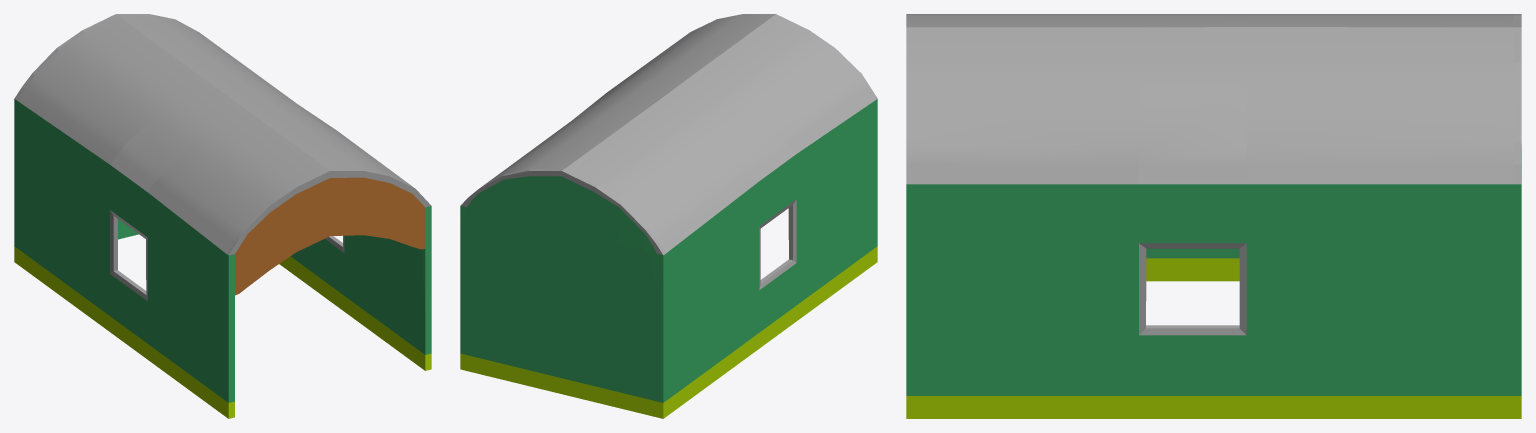
File: playerhome.fbx
The picture shows the model from 3 angles, left to right: view 1: azimuth 30°, elevation 25°; view 2: azimuth 150°, elevation 25°; view 3: azimuth 270°, elevation 25°; orthographic projection. The views are drawn at different scales.
Parts seen in each view (by area): view 1: pCube1; view 2: pCube1; view 3: pCube1.
Part boxes in pixels (x1,y1,x2,y2): pCube1: [14, 14, 431, 418]; pCube1: [460, 14, 877, 418]; pCube1: [906, 14, 1521, 418].
Bounding box in the file's own units: 13.3 × 13.97 × 24.32.
